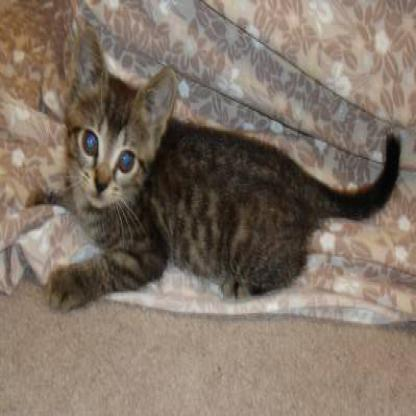cat: (54, 55, 336, 322)
